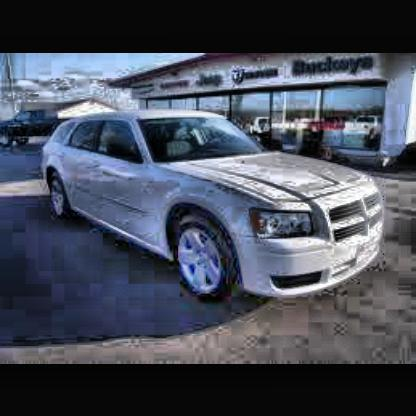Dodge Magnum Wagon 2008: (43, 108, 396, 303)
